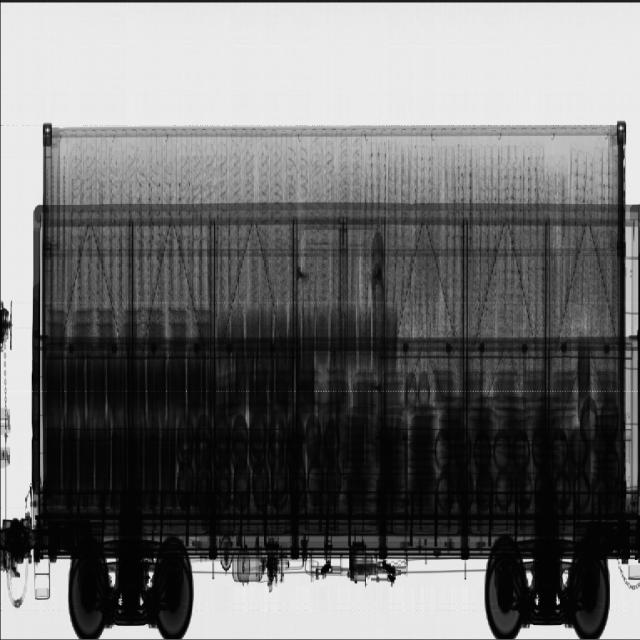clothes: (196, 124, 279, 472), (108, 125, 150, 240)
textile: (428, 122, 601, 458), (76, 127, 196, 470), (274, 122, 390, 464)
